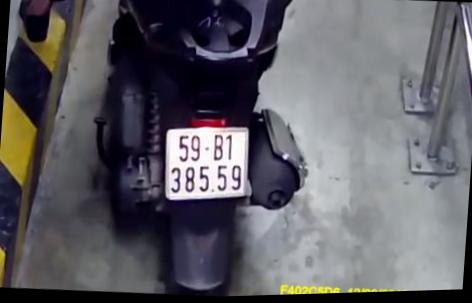LP: (160, 121, 251, 206)
